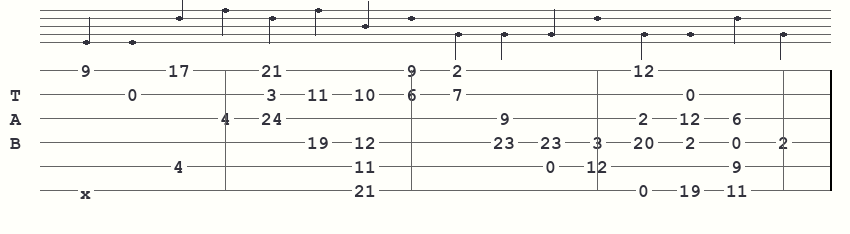0: (127, 86, 142, 102), (545, 158, 560, 174), (638, 182, 653, 198), (685, 86, 700, 102), (731, 134, 746, 150)
10: (354, 86, 380, 102)
11: (307, 86, 333, 102), (354, 158, 380, 174), (726, 182, 752, 198)
12: (354, 134, 380, 150), (586, 158, 612, 174), (633, 62, 659, 78), (679, 110, 705, 126)
17: (168, 62, 194, 78)
19: (307, 134, 333, 150), (679, 182, 705, 198)
2: (452, 62, 467, 78), (638, 110, 653, 126), (685, 134, 700, 150), (778, 134, 793, 150)
20: (633, 134, 659, 150)
21: (261, 62, 287, 78), (354, 182, 380, 198)
23: (493, 134, 519, 150), (540, 134, 566, 150)
24: (261, 110, 287, 126)
3: (266, 86, 281, 102), (592, 134, 607, 150)
4: (173, 158, 188, 174), (220, 110, 235, 126)
6: (406, 86, 421, 102), (731, 110, 746, 126)
7: (452, 86, 467, 102)
9: (80, 62, 95, 78), (406, 62, 421, 78), (499, 110, 514, 126), (731, 158, 746, 174)
x: (80, 184, 95, 196)
